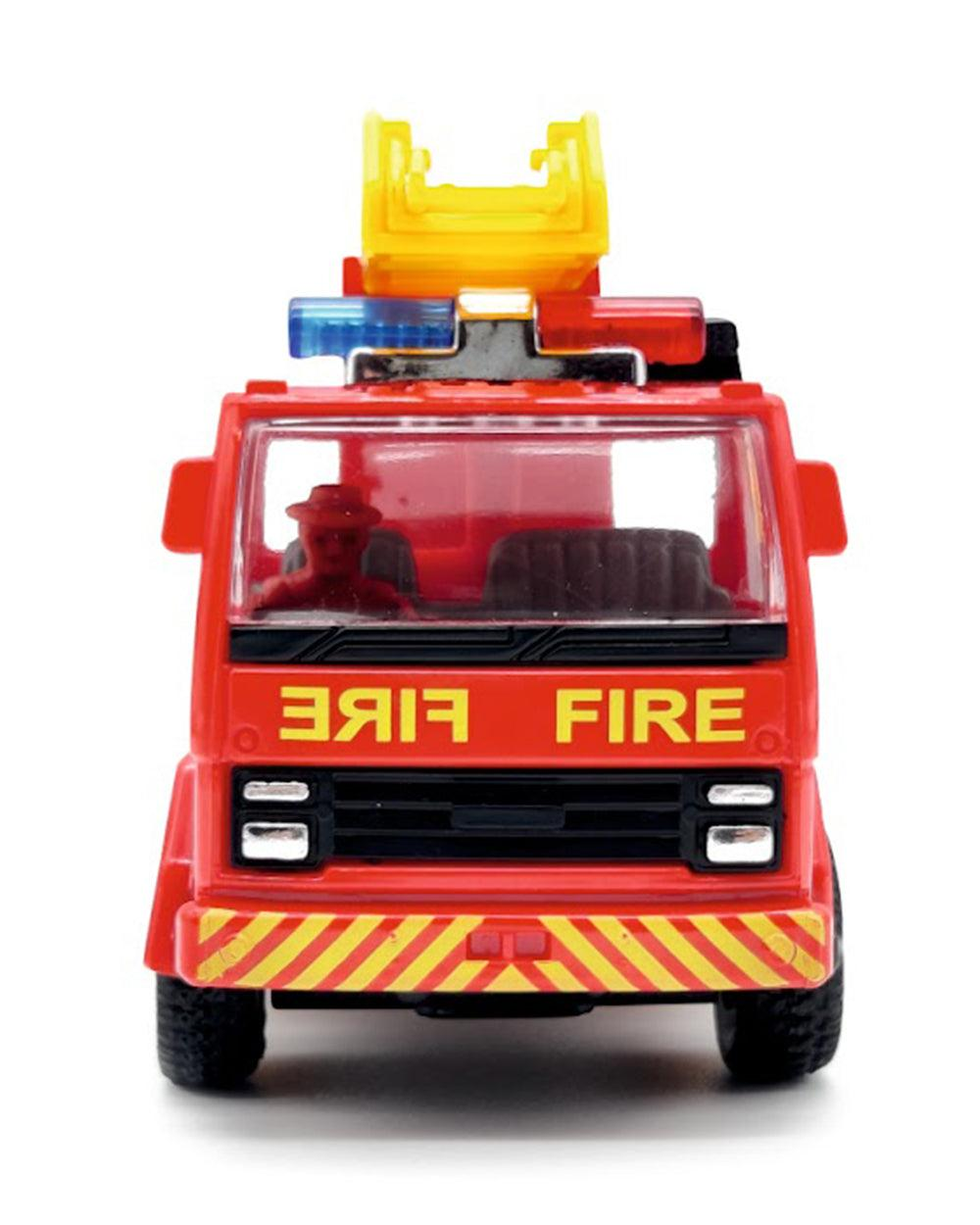Fire-engine: (162, 196, 862, 1104)
